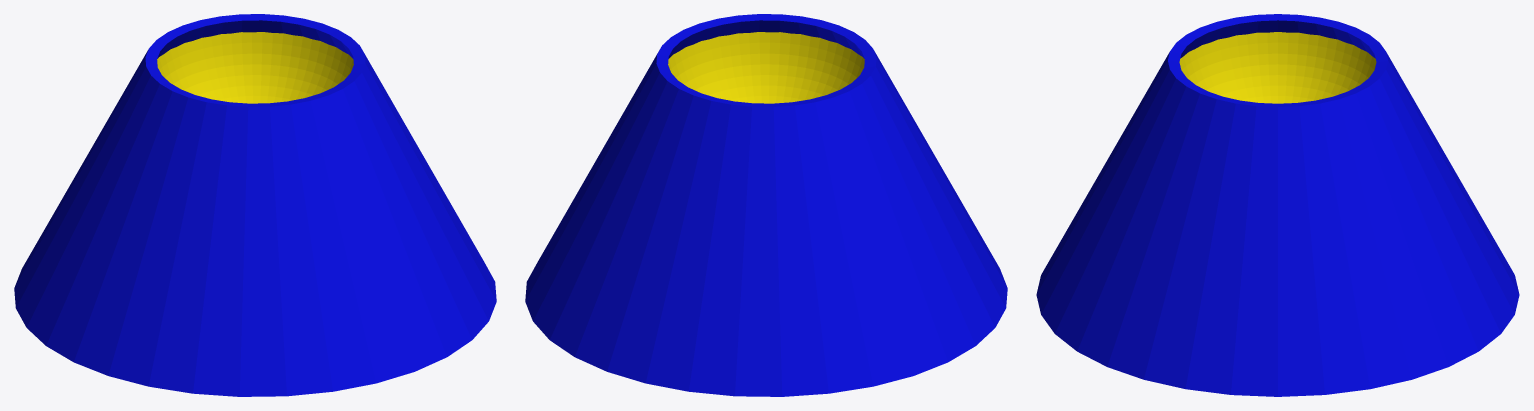
Rendered from Blunted.fbx.
3 renders of one model, left to right at view 1: azimuth 30°, elevation 25°; view 2: azimuth 150°, elevation 25°; view 3: azimuth 270°, elevation 25°, orthographic.
Parts seen in each view (by area): view 1: Cylinder, Sphere; view 2: Cylinder, Sphere; view 3: Cylinder, Sphere.
Part boxes in pixels (x1=…): Cylinder: x1=14, y1=14, x2=496, y2=396; Sphere: x1=157, y1=32, x2=353, y2=103; Cylinder: x1=525, y1=14, x2=1007, y2=396; Sphere: x1=668, y1=32, x2=864, y2=103; Cylinder: x1=1036, y1=14, x2=1519, y2=396; Sphere: x1=1179, y1=32, x2=1376, y2=103.
Size of the model in its own units: 109 by 58.12 by 109.
